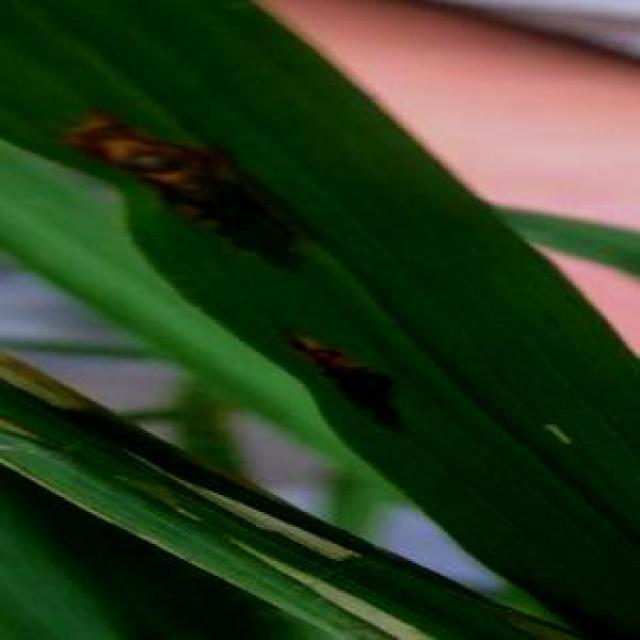Leaf_Blast: (70, 111, 305, 282), (271, 301, 410, 444)
